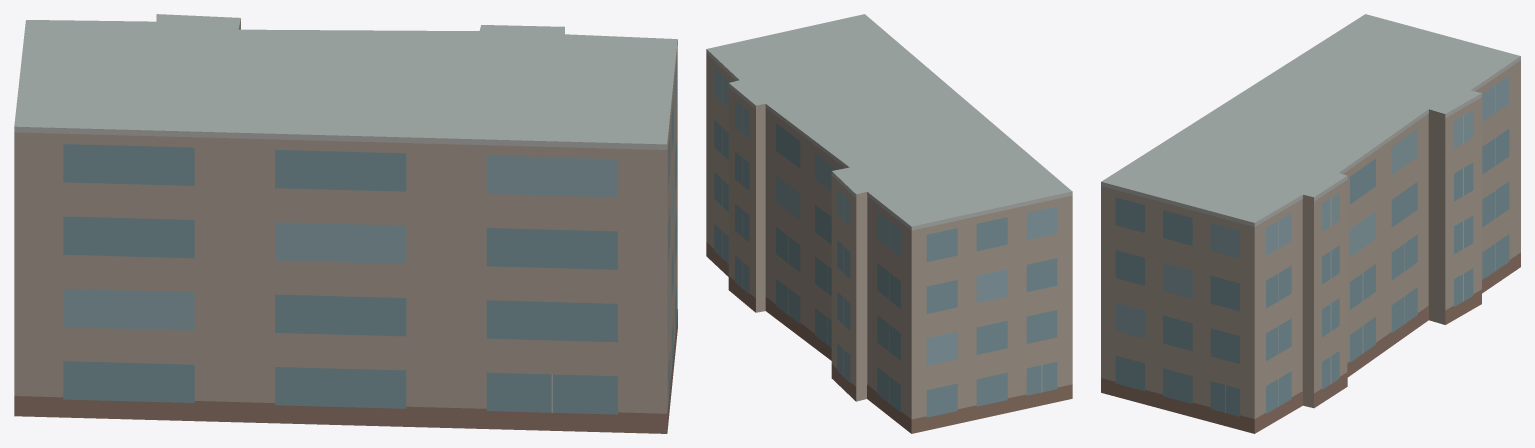
Rendered from survey-upis-32631096.glb.
The picture shows the model from 3 angles, left to right: view 1: azimuth 30°, elevation 25°; view 2: azimuth 150°, elevation 25°; view 3: azimuth 270°, elevation 25°; orthographic projection. The views are drawn at different scales.
Visible parts, largest first — view 1: survey-upis-32631096.tmp; view 2: survey-upis-32631096.tmp; view 3: survey-upis-32631096.tmp.
Boxes of the visible parts, x1,y1,x2,y2 form: survey-upis-32631096.tmp: (14, 14, 677, 433); survey-upis-32631096.tmp: (706, 14, 1072, 433); survey-upis-32631096.tmp: (1101, 14, 1520, 433).
Bounding box in the file's own units: 26.56 × 12.5 × 22.55.
